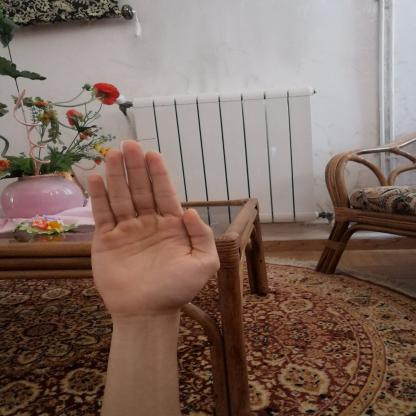SEEN: (72, 131, 234, 326)
